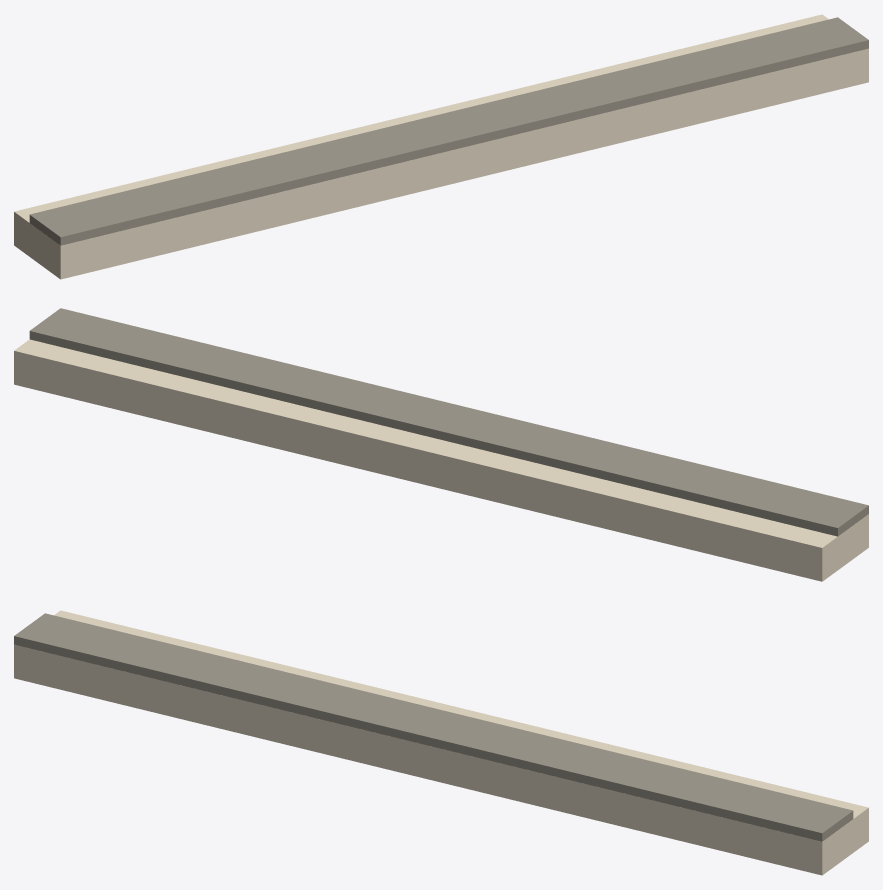
File: oc_kerb_01.glb
The picture shows the model from 3 angles, top to bottom: view 1: azimuth 30°, elevation 25°; view 2: azimuth 150°, elevation 25°; view 3: azimuth 330°, elevation 25°; orthographic projection.
Parts seen in each view (by area): view 1: LOD1_OC_Stucco_Ivory, LOD1_OC_Concrete; view 2: LOD1_OC_Stucco_Ivory, LOD1_OC_Concrete; view 3: LOD1_OC_Stucco_Ivory, LOD1_OC_Concrete.
Part boxes in pixels (x1,y1,x2,y2): LOD1_OC_Stucco_Ivory: (14,14,868,279); LOD1_OC_Concrete: (29,17,868,245); LOD1_OC_Stucco_Ivory: (14,339,868,581); LOD1_OC_Concrete: (29,308,868,536); LOD1_OC_Stucco_Ivory: (14,610,868,875); LOD1_OC_Concrete: (14,613,853,841).
Size of the model in its own units: 3 by 0.15 by 0.3.
